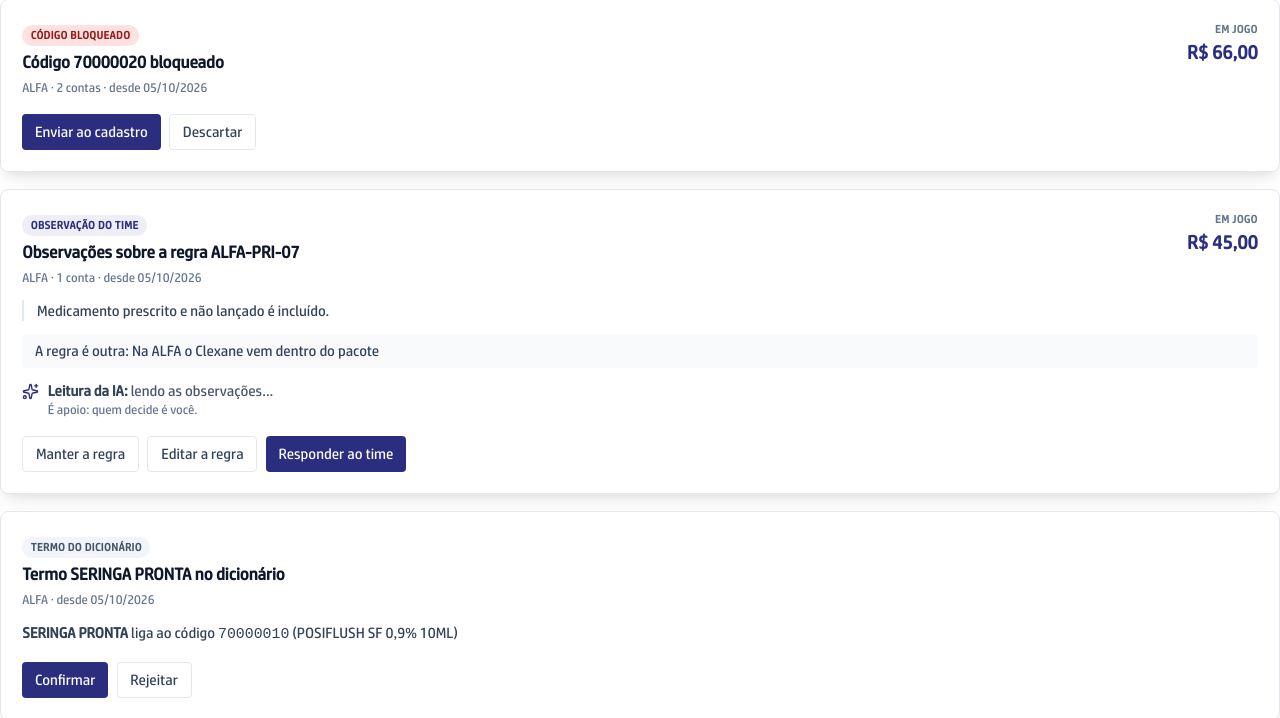
o Ditar na resposta ao time (issue #1145) › tem o aviso de paciente ao lado, e o texto ditado entra no campo sem enviar a resposta
The width and height of the screenshot is (1280, 718).
(page scrolled)
Click the button "Responder ao time": (336, 454) x1=266 y1=436 x2=406 y2=472
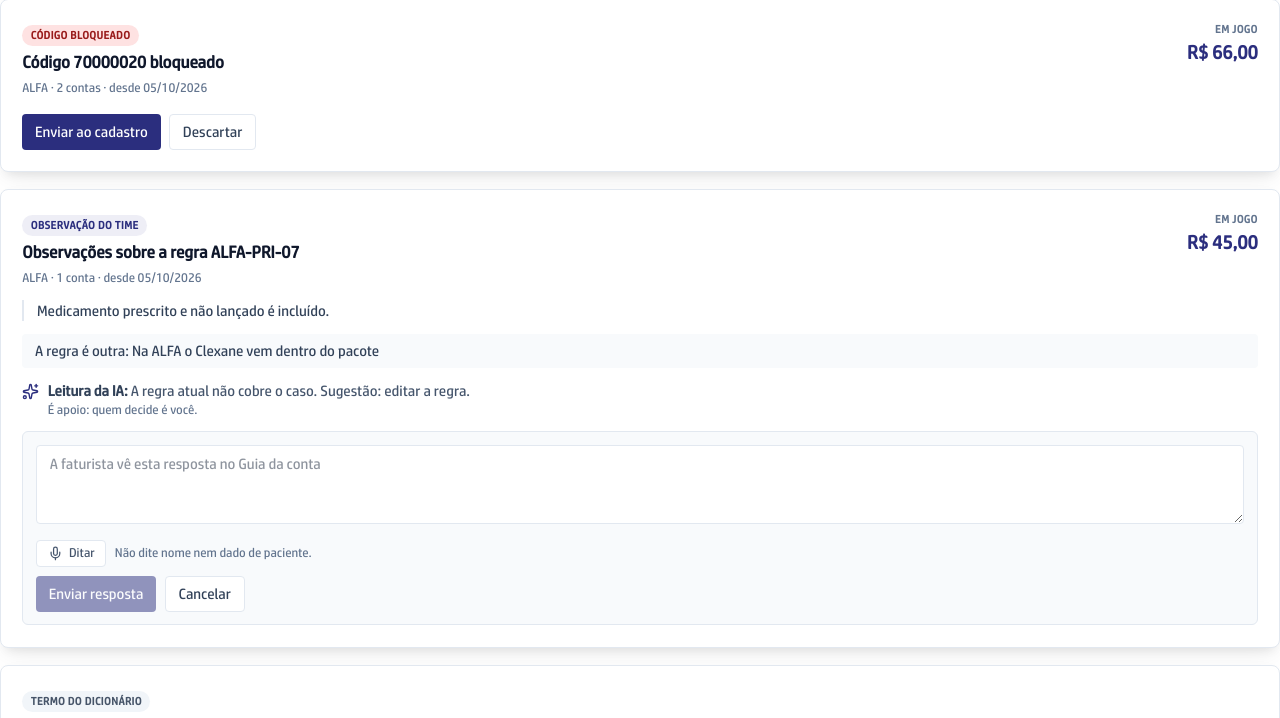
Click the button with aria-label "Ditar: Resposta ao time": (71, 553) x1=36 y1=540 x2=106 y2=567
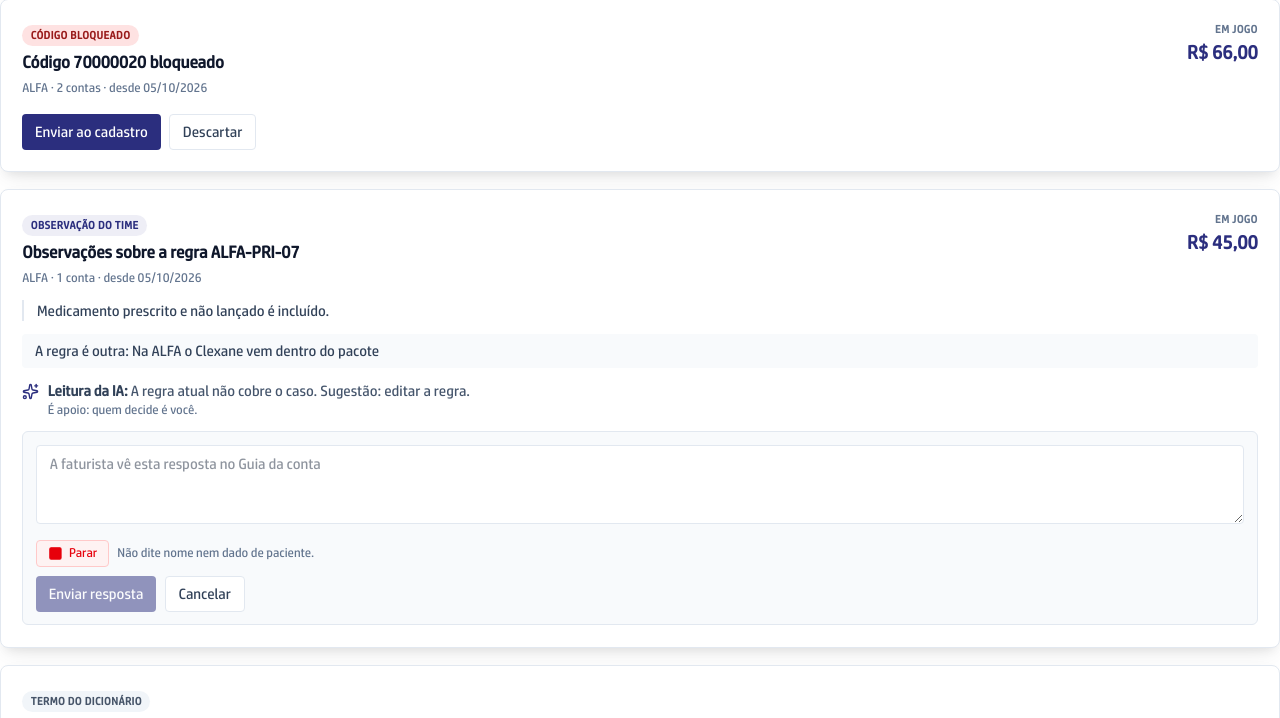
Click the button with aria-label "Parar o ditado: Resposta ao time": (72, 553) x1=36 y1=540 x2=109 y2=567
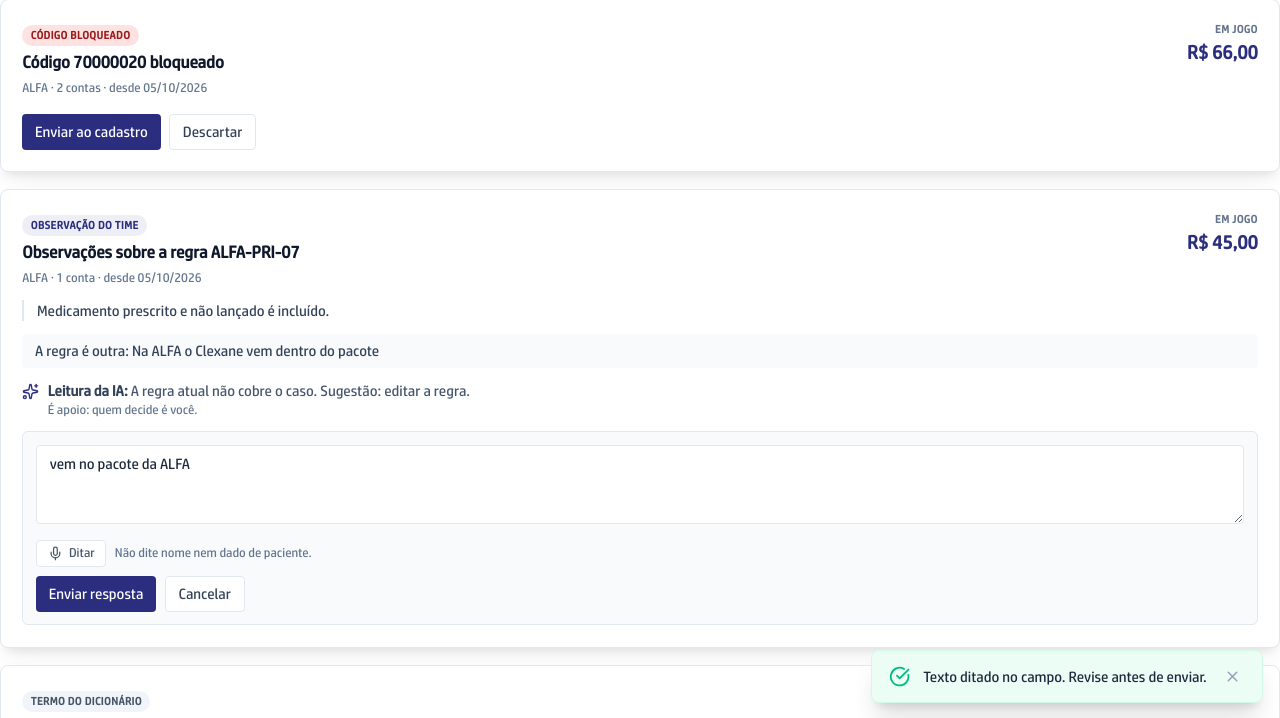
Expected: the text box named "Resposta ao time" holds "vem no pacote da ALFA", x1=36 y1=445 x2=1244 y2=524
